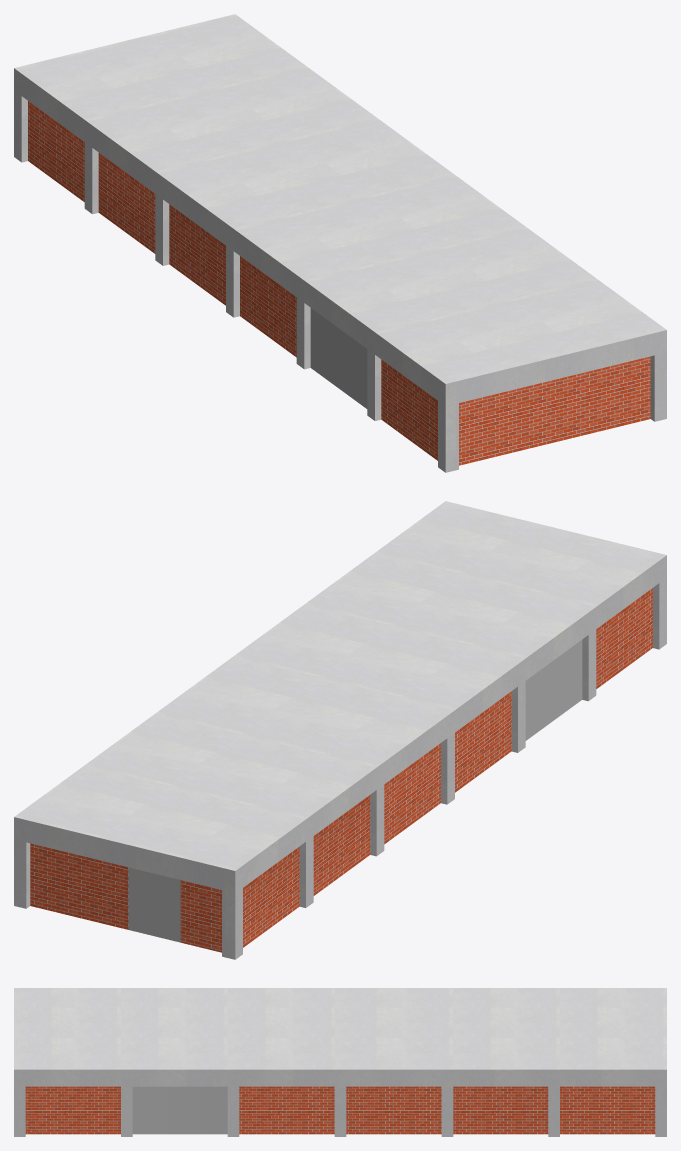
The model's file is pabellon_2.fbx.
3 views of the same model, one above another, from view 1: azimuth 30°, elevation 25°; view 2: azimuth 150°, elevation 25°; view 3: azimuth 270°, elevation 25° (orthographic). The views are drawn at different scales.
Visible parts, largest first — view 1: pabellon_2_final; view 2: pabellon_2_final; view 3: pabellon_2_final.
Boxes of the visible parts, x1,y1,x2,y2 form: pabellon_2_final: (14,14,666,472); pabellon_2_final: (14,501,666,959); pabellon_2_final: (14,988,666,1136).
Size of the model in its own units: 958 by 368 by 3237.
